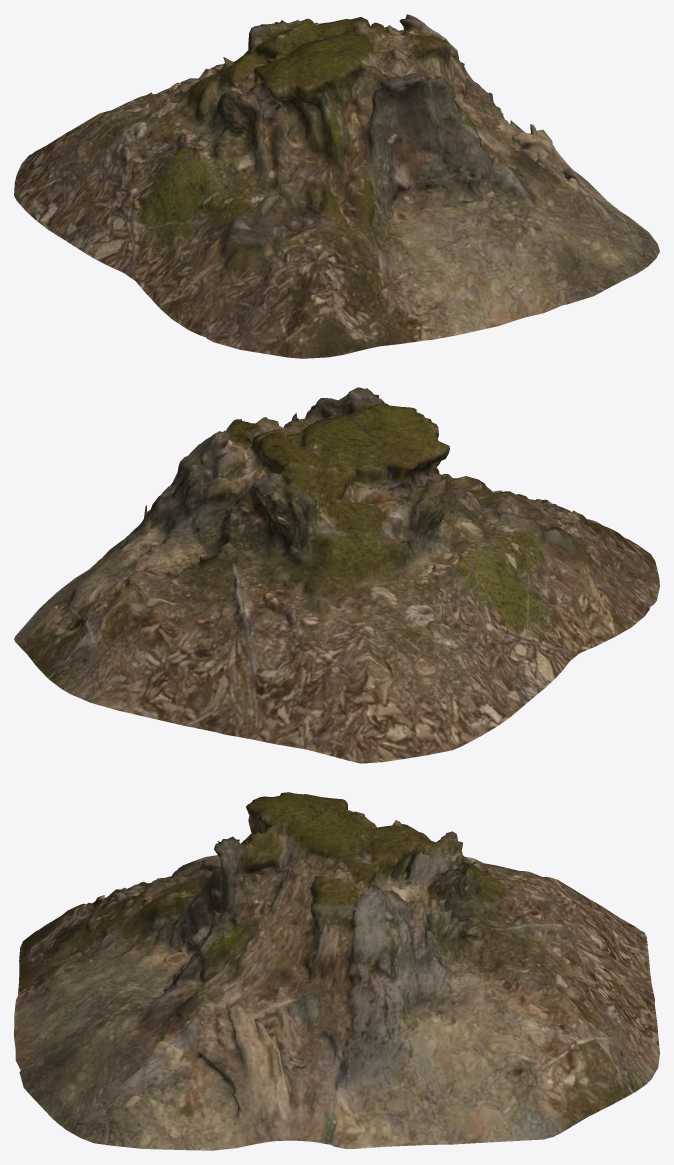
File: tree_stump_01.glb
3 renders of one model, top to bottom at view 1: azimuth 30°, elevation 25°; view 2: azimuth 150°, elevation 25°; view 3: azimuth 270°, elevation 25°, orthographic. The views are drawn at different scales.
Parts seen in each view (by area): view 1: tree_stump_01; view 2: tree_stump_01; view 3: tree_stump_01.
Boxes of the visible parts, bbox=[...] form: tree_stump_01: bbox=[14, 14, 659, 358]; tree_stump_01: bbox=[14, 387, 659, 763]; tree_stump_01: bbox=[14, 792, 659, 1150].
Bounding box in the file's own units: 1.43 × 0.5725 × 1.59.
Materials: 1 (1 with a texture image).
